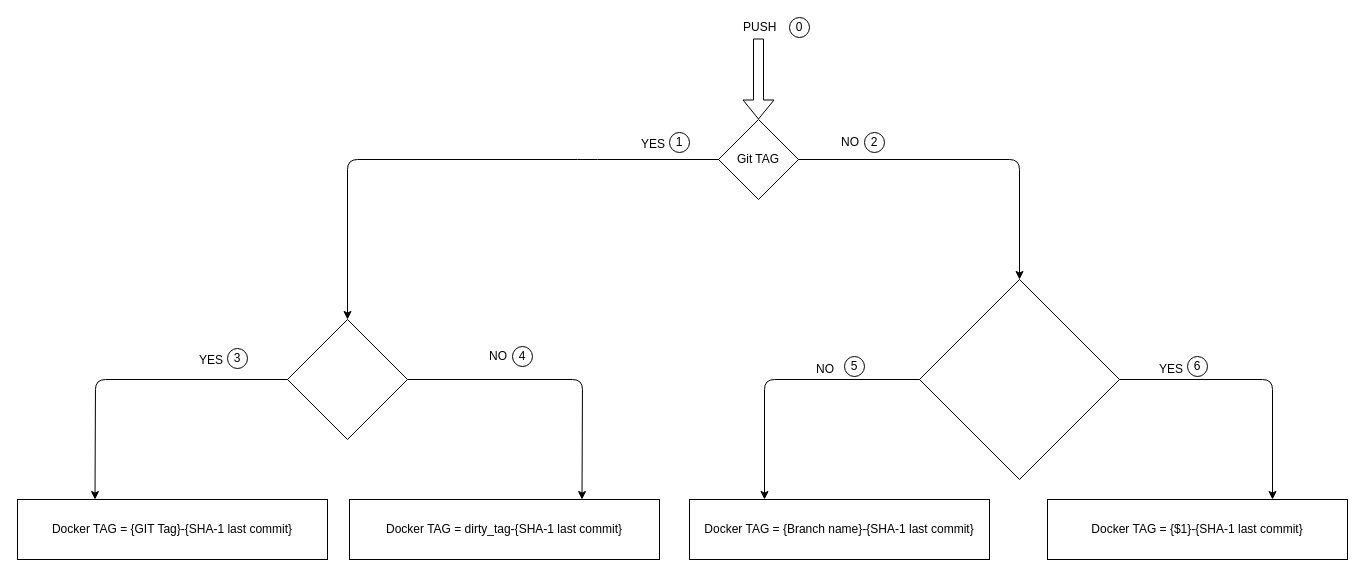
The diagram is 1365 pixels wide and 577 high, and some of its shapes have lost their labels. The shapes that lost their labels are listed below. From the top down, each one's centre as x and y in pixels, then its label:
point 347,379: Git TAG Semver 2.0
point 1019,379: Branch name ^(feature|bugfix)/(.*)$
